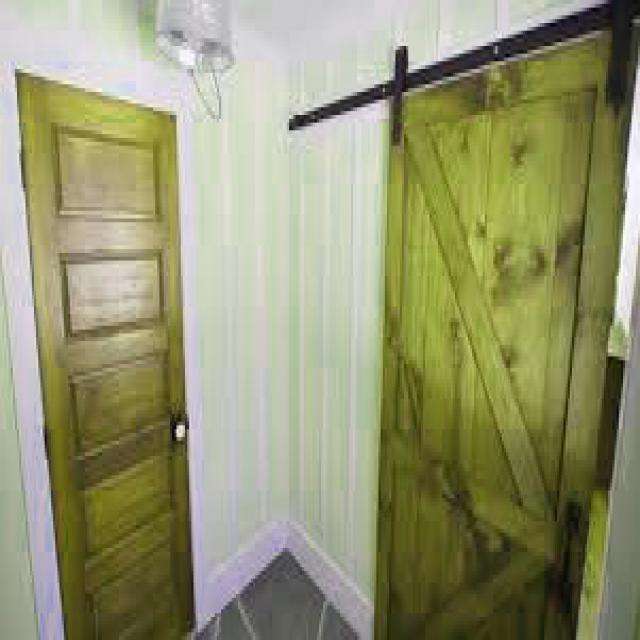door: (15, 68, 193, 638)
